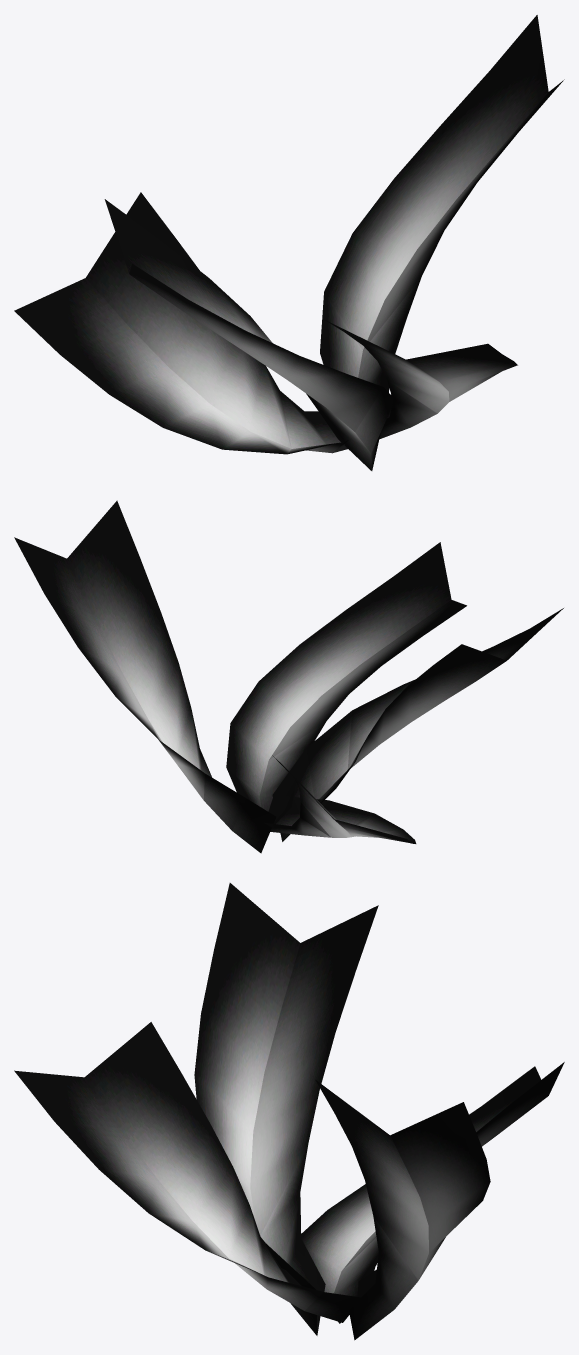
File: vfx_kurp_0970.dae
3 views of the same model, one above another, from view 1: azimuth 30°, elevation 25°; view 2: azimuth 150°, elevation 25°; view 3: azimuth 270°, elevation 25° (orthographic). The views are drawn at different scales.
Visible parts, largest first — view 1: vfx_kurp_0970; view 2: vfx_kurp_0970; view 3: vfx_kurp_0970.
Part boxes in pixels (left/top/right/bottom): vfx_kurp_0970: left=14, top=15, right=564, bottom=470; vfx_kurp_0970: left=14, top=500, right=563, bottom=853; vfx_kurp_0970: left=14, top=883, right=564, bottom=1340.
Bounding box in the file's own units: 8.42 × 7.59 × 5.38.
Materials: 1 (1 with a texture image).
